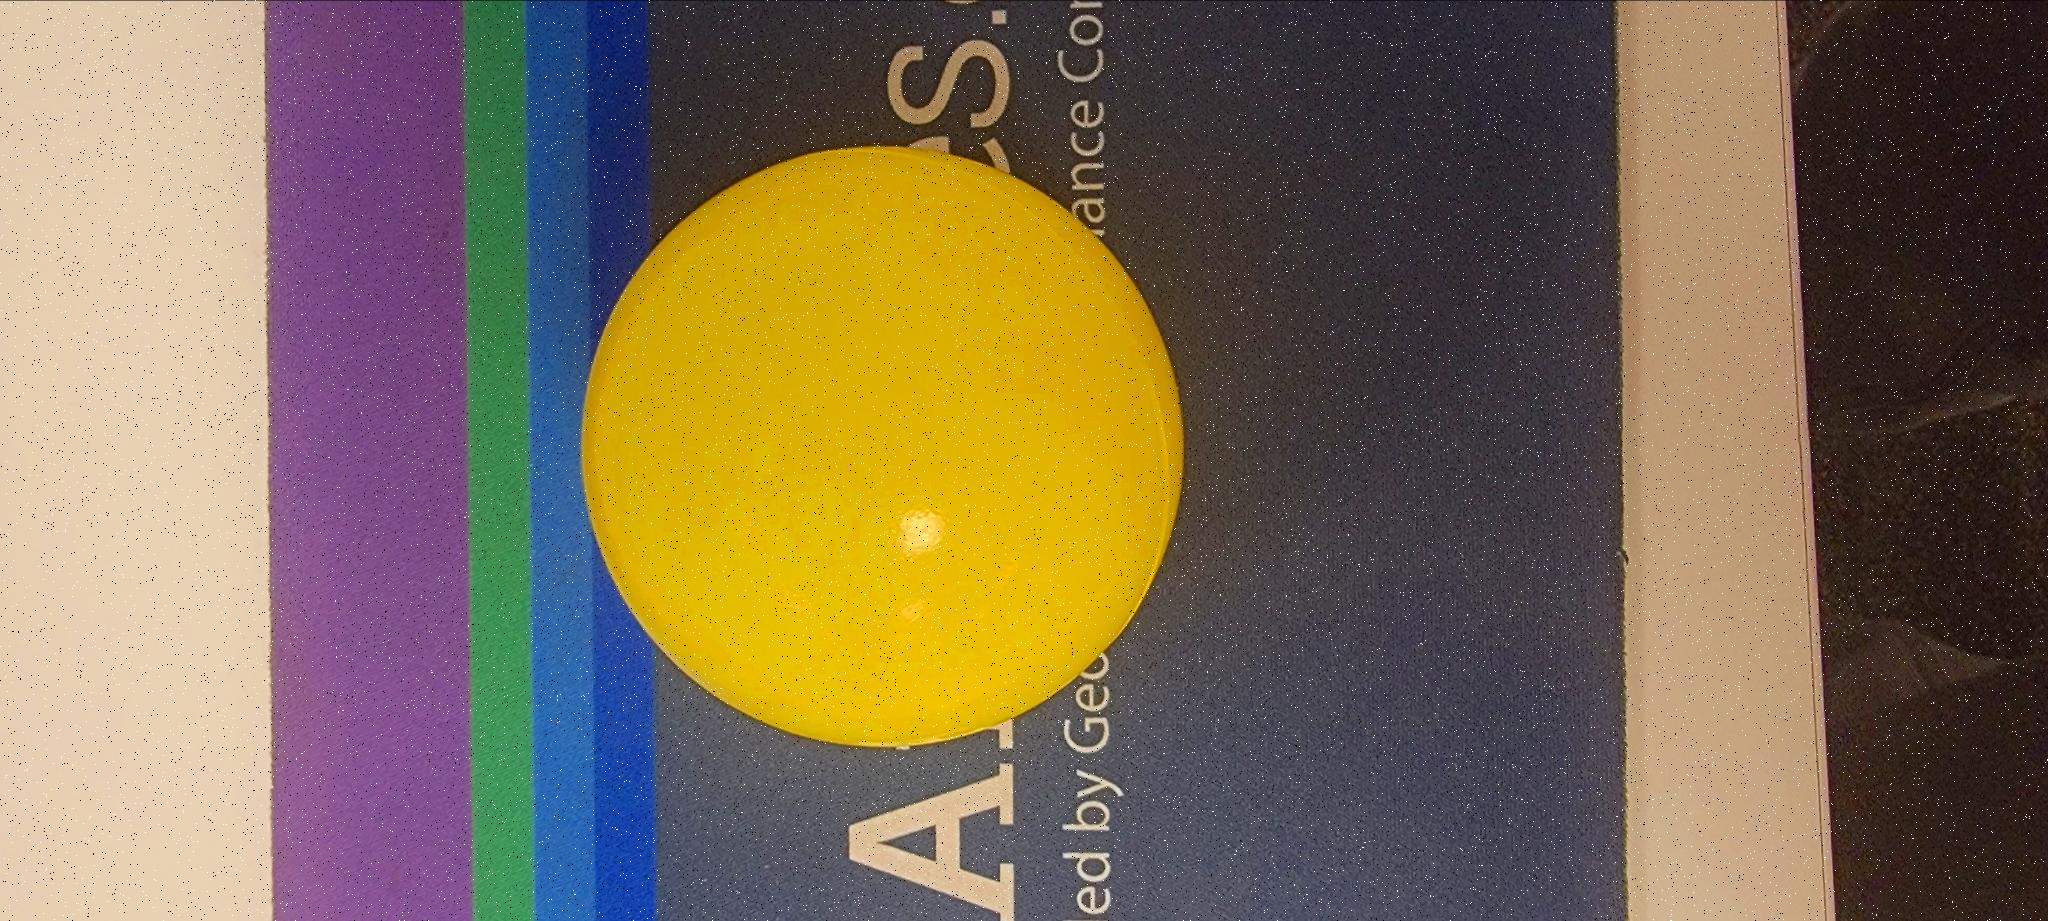Yellow-Ball: (583, 148, 1186, 752)
